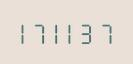one: (17, 20, 32, 44), (50, 20, 65, 44), (66, 20, 81, 44)
seven: (33, 20, 48, 44), (98, 20, 113, 44)
three: (82, 20, 97, 44)
